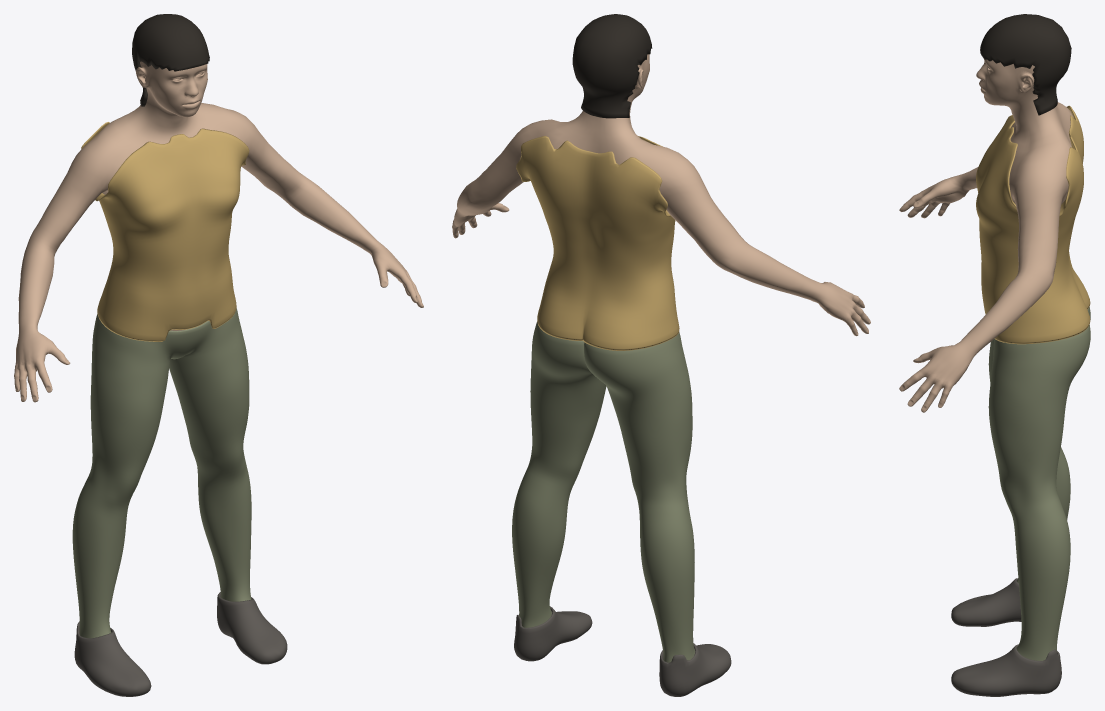
Rendered from 2-charB.glb.
3 views of the same model, side by side, from view 1: azimuth 30°, elevation 25°; view 2: azimuth 150°, elevation 25°; view 3: azimuth 270°, elevation 25° (orthographic). The views are drawn at different scales.
Visible parts, largest first — view 1: pants, shirt, Human, shoes, hair; view 2: pants, shirt, Human, hair, shoes; view 3: pants, Human, shirt, shoes, hair.
Boxes of the visible parts, left/top/right/bottom form: pants: left=72, top=308, right=251, bottom=638; shirt: left=81, top=122, right=249, bottom=341; Human: left=14, top=61, right=423, bottom=402; shoes: left=74, top=592, right=287, bottom=696; hair: left=132, top=14, right=209, bottom=106; pants: left=512, top=321, right=695, bottom=662; shirt: left=516, top=136, right=679, bottom=350; Human: left=452, top=54, right=870, bottom=336; hair: left=572, top=14, right=652, bottom=118; shoes: left=514, top=606, right=731, bottom=696; pants: left=988, top=307, right=1090, bottom=660; Human: left=899, top=58, right=1073, bottom=412; shirt: left=976, top=105, right=1090, bottom=344; shoes: left=951, top=578, right=1061, bottom=696; hair: left=980, top=14, right=1071, bottom=115.
Bounding box in the file's own units: 1.1 × 1.68 × 0.456.
